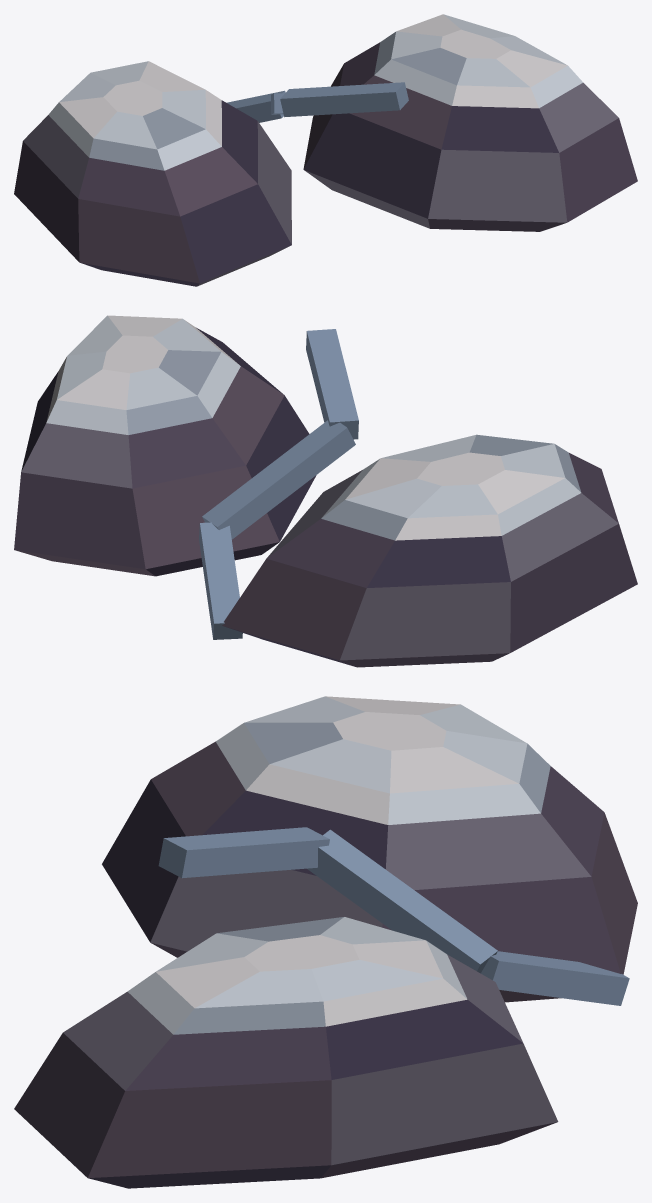
The model's file is frozen-fissure.glb.
3 renders of one model, top to bottom at view 1: azimuth 30°, elevation 25°; view 2: azimuth 150°, elevation 25°; view 3: azimuth 270°, elevation 25°, orthographic. The views are drawn at different scales.
Parts seen in each view (by area): view 1: frozen-fissure; view 2: frozen-fissure; view 3: frozen-fissure.
Boxes of the visible parts, x1,y1,x2,y2 form: frozen-fissure: (14,14,637,286); frozen-fissure: (14,315,637,667); frozen-fissure: (14,696,637,1188).
Bounding box in the file's own units: 3.49 × 0.9585 × 2.53.
